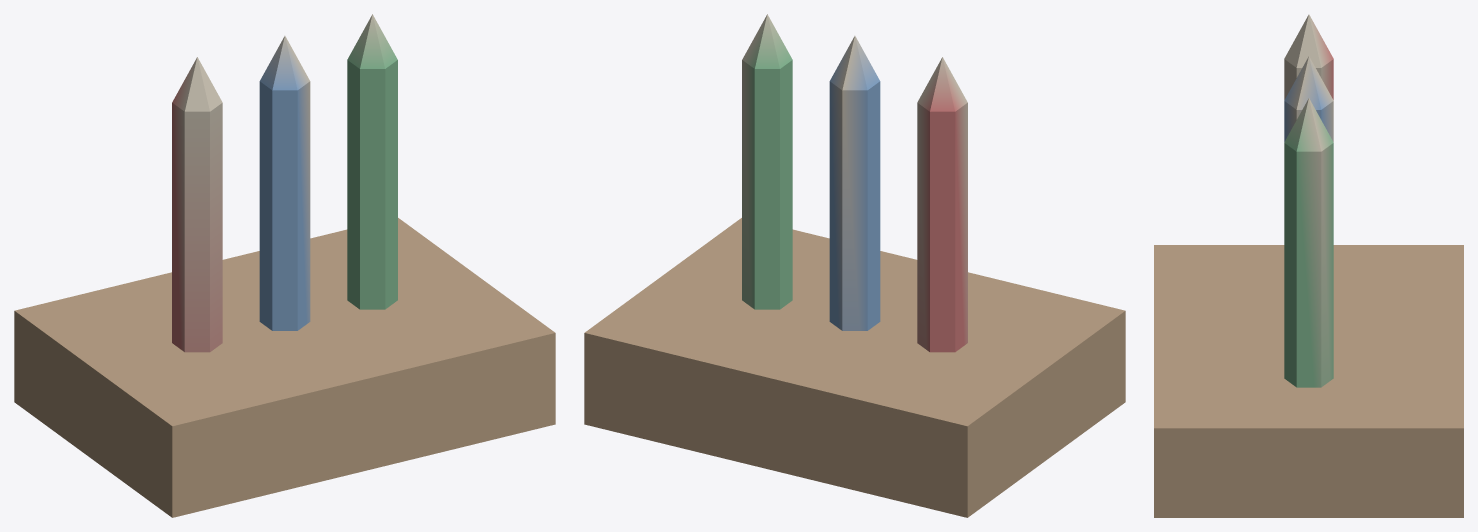
File: kid_lapis_cor.glb
3 renders of one model, left to right at view 1: azimuth 30°, elevation 25°; view 2: azimuth 150°, elevation 25°; view 3: azimuth 270°, elevation 25°, orthographic. The views are drawn at different scales.
Parts seen in each view (by area): view 1: KID_LAPIS_COR_v01; view 2: KID_LAPIS_COR_v01; view 3: KID_LAPIS_COR_v01.
Part boxes in pixels (x1,y1,x2,y2): KID_LAPIS_COR_v01: (14,14,555,517); KID_LAPIS_COR_v01: (584,14,1125,517); KID_LAPIS_COR_v01: (1154,14,1463,517).
Bounding box in the file's own units: 0.35 × 0.34 × 0.25.
